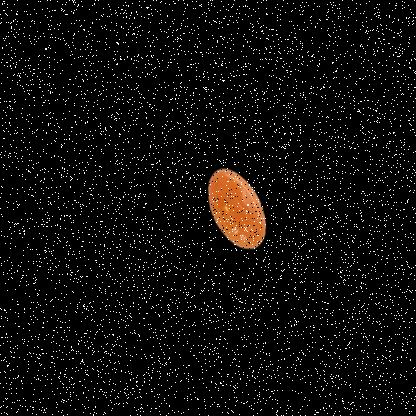welood: (183, 151, 304, 271)
